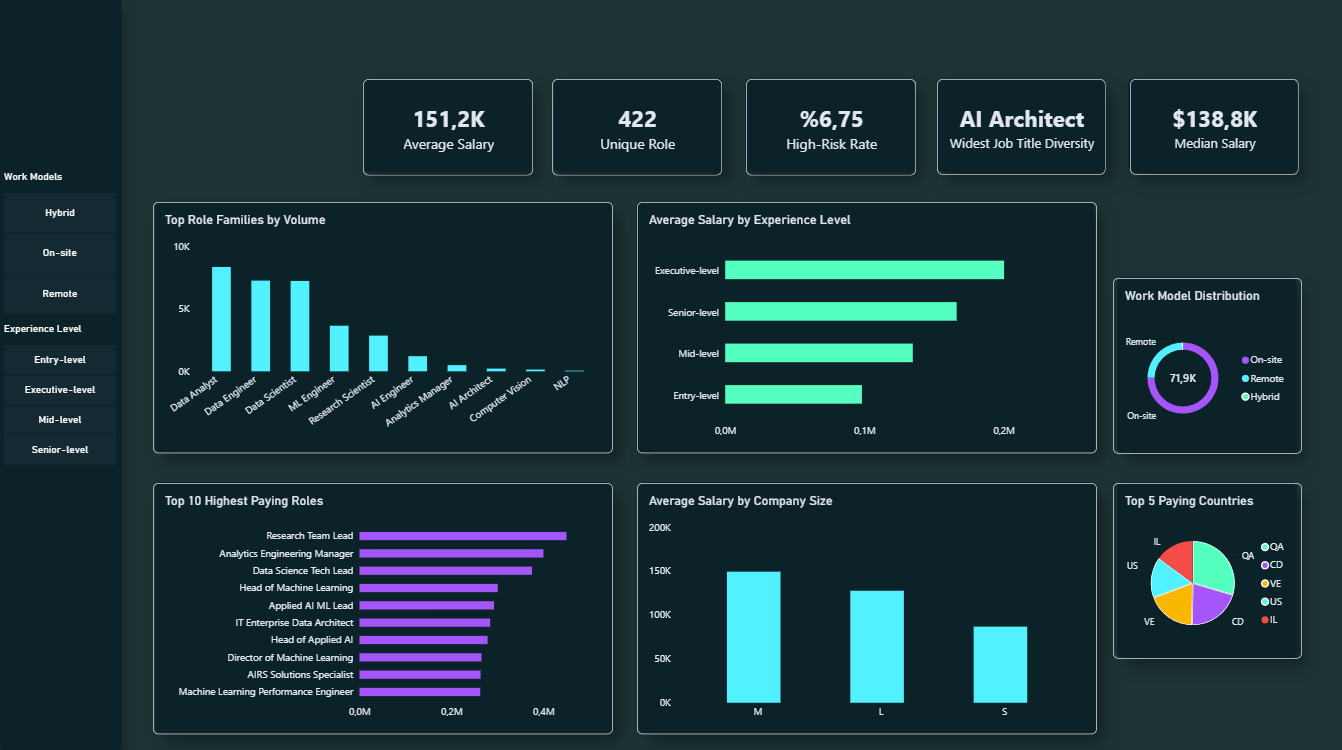

The dashboard page shown, as its layout file describes it:
{"tool":"powerbi","page":{"name":"Page 1","canvas":[1920,1080],"ordinal":0},"visuals":[{"type":"cardVisual","fields":{"Data":["Table.avg_salary"]},"box":[517.9,115.3,243.6,138.6],"z":0},{"type":"cardVisual","fields":{"Data":["Table.unique_role_count"]},"box":[788.4,115.4,243.6,138.6],"z":1000},{"type":"cardVisual","fields":{"Data":["Table.High_Risk_Position_Rate"]},"box":[1065.7,115.4,243.6,138.6],"z":2000},{"type":"cardVisual","fields":{"Data":["Min(ai_jobs_salaries_clean.role_family)"]},"box":[1338.5,115.4,241.3,137.9],"z":3000},{"type":"cardVisual","fields":{"Data":["Table.median_salary"]},"box":[1614.2,115.4,241.3,137.9],"z":4000},{"type":"clusteredColumnChart","title":"Top Role Families by Volume","fields":{"Category":["ai_jobs_salaries_clean.role_family"],"Y":["CountNonNull(ai_jobs_salaries_clean.role_family)"]},"box":[218.8,291.8,656.5,358.9],"z":5000},{"type":"clusteredBarChart","title":"Average Salary by Experience Level","fields":{"Category":["ai_jobs_salaries_clean.experience_level_label"],"Y":["Table.avg_salary"]},"box":[910.4,291.8,656.5,358.9],"z":6000},{"type":"donutChart","title":"Work Model Distribution","fields":{"Category":["ai_jobs_salaries_clean.work_mode"],"Y":["CountNonNull(ai_jobs_salaries_clean.role_family)"]},"box":[1590.3,399.8,269.9,250.9],"z":7000},{"type":"clusteredBarChart","title":"Top 10 Highest Paying Roles","fields":{"Category":["ai_jobs_salaries_clean.job_title"],"Y":["Table.avg_salary"]},"box":[218.6,692.9,656.5,358.9],"z":8000},{"type":"clusteredColumnChart","title":"Average Salary by Company Size","fields":{"Category":["ai_jobs_salaries_clean.company_size"],"Y":["Table.avg_salary"]},"box":[910,692.9,656.5,358.9],"z":9000},{"type":"pieChart","title":"Top 5 Paying Countries","fields":{"Category":["ai_jobs_salaries_clean.company_location"],"Y":["Table.avg_salary"]},"box":[1590,692.9,269.9,250.9],"z":9001},{"type":"advancedSlicerVisual","title":"Experience Level","fields":{"Values":["ai_jobs_salaries_clean.experience_level_label"]},"box":[5.7,464.3,160,204.3],"z":9003},{"type":"advancedSlicerVisual","title":"Work Models","fields":{"Values":["ai_jobs_salaries_clean.work_mode"]},"box":[5.7,247.1,160,204.3],"z":9004}]}

Visuals, with their boxes on the page's 1920x1080 design canvas (x1, y1, x2, y2). These are canvas units, not pixel positions in the 1342x750 screenshot, which may show the page scaled, cropped or inside an application window:
cardVisual - Table.avg_salary: <bbox>518, 115, 762, 254</bbox>
cardVisual - Table.unique_role_count: <bbox>788, 115, 1032, 254</bbox>
cardVisual - Table.High_Risk_Position_Rate: <bbox>1066, 115, 1309, 254</bbox>
cardVisual - Min(ai_jobs_salaries_clean.role_family): <bbox>1338, 115, 1580, 253</bbox>
cardVisual - Table.median_salary: <bbox>1614, 115, 1856, 253</bbox>
"Top Role Families by Volume" clusteredColumnChart: <bbox>219, 292, 875, 651</bbox>
"Average Salary by Experience Level" clusteredBarChart: <bbox>910, 292, 1567, 651</bbox>
"Work Model Distribution" donutChart: <bbox>1590, 400, 1860, 651</bbox>
"Top 10 Highest Paying Roles" clusteredBarChart: <bbox>219, 693, 875, 1052</bbox>
"Average Salary by Company Size" clusteredColumnChart: <bbox>910, 693, 1566, 1052</bbox>
"Top 5 Paying Countries" pieChart: <bbox>1590, 693, 1860, 944</bbox>
"Experience Level" advancedSlicerVisual: <bbox>6, 464, 166, 669</bbox>
"Work Models" advancedSlicerVisual: <bbox>6, 247, 166, 451</bbox>
